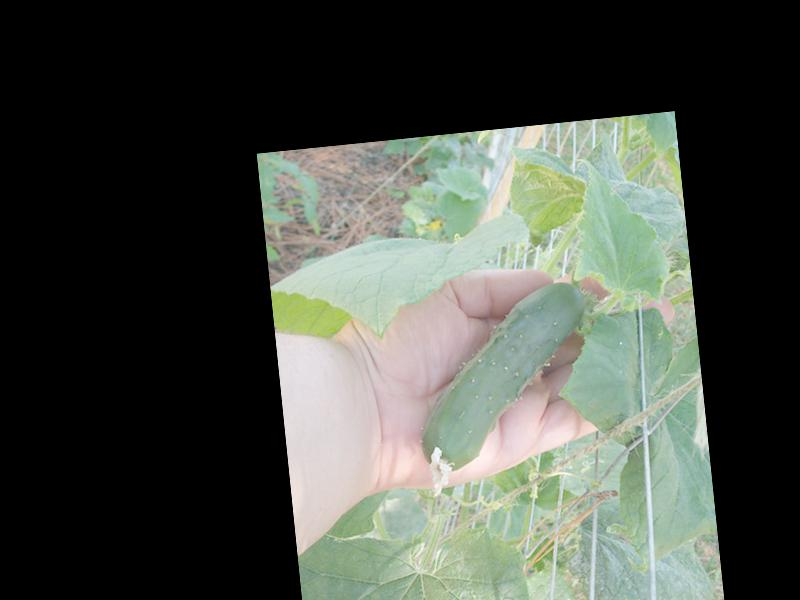Cucumber: (407, 281, 602, 499)
